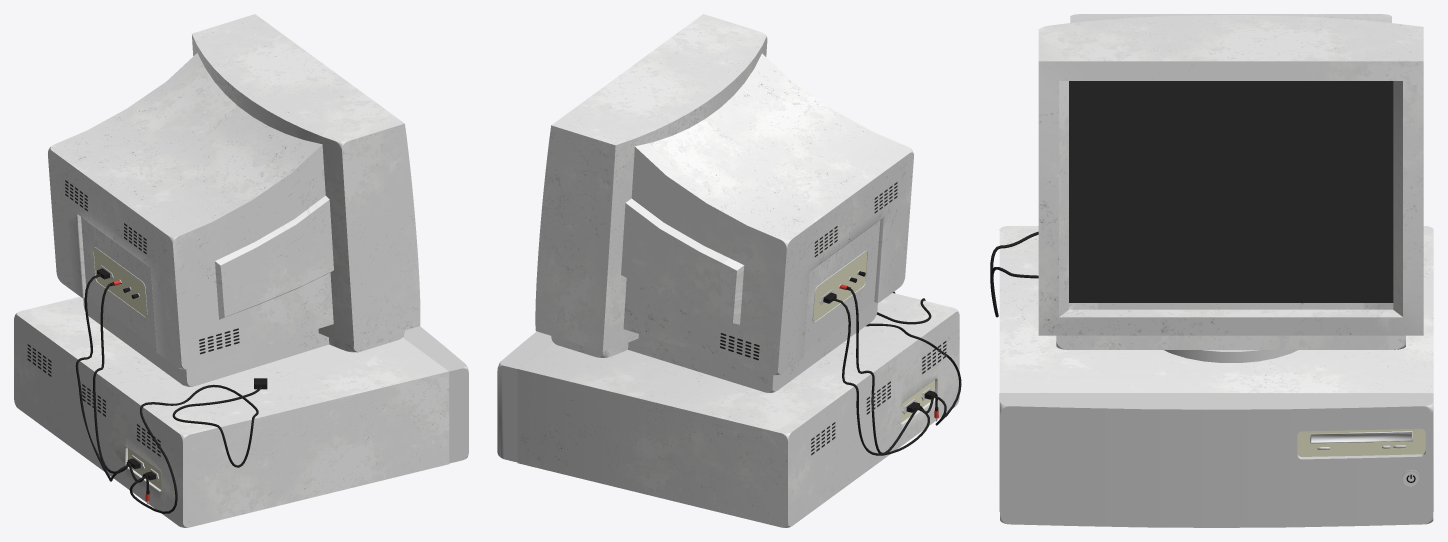
Rendered from monitor.glb.
3 views of the same model, side by side, from view 1: azimuth 30°, elevation 25°; view 2: azimuth 150°, elevation 25°; view 3: azimuth 270°, elevation 25° (orthographic). The views are drawn at different scales.
Visible parts, largest first — view 1: monitor, pc, cable-unplugged, cable-round, cable; view 2: monitor, pc, cable-unplugged, cable-round, cable; view 3: monitor, pc, monitor-stand, cd, cable-unplugged.
Part boxes in pixels (x1,y1,x2,y2): monitor: (48, 14, 420, 386); pc: (14, 296, 468, 527); cable-unplugged: (129, 384, 261, 513); cable-round: (93, 284, 148, 491); cable: (75, 274, 128, 481); monitor: (535, 14, 913, 392); pc: (497, 293, 959, 527); cable-unplugged: (866, 291, 961, 425); cable-round: (849, 288, 937, 453); cable: (834, 298, 929, 455); monitor: (1038, 14, 1423, 349); pc: (999, 226, 1433, 527); monitor-stand: (1164, 350, 1297, 362); cd: (1310, 431, 1412, 449); cable-unplugged: (990, 231, 1038, 317).
Bounding box in the file's own units: 0.4746 × 0.4886 × 0.454.
8 materials, 3 textured.
